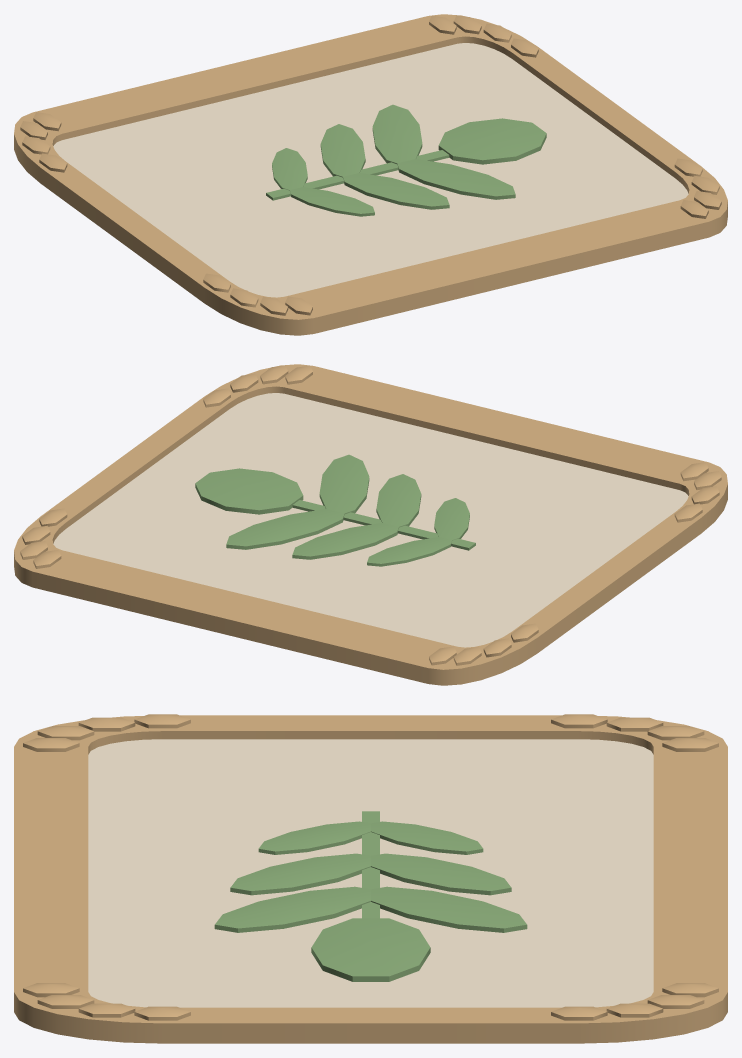
Rendered from doormat.glb.
3 views of the same model, one above another, from view 1: azimuth 30°, elevation 25°; view 2: azimuth 150°, elevation 25°; view 3: azimuth 270°, elevation 25° (orthographic). The views are drawn at different scales.
Visible parts, largest first — view 1: doormat; view 2: doormat; view 3: doormat.
Boxes of the visible parts, <box> form: doormat: <box>14,14,727,335</box>; doormat: <box>14,364,727,685</box>; doormat: <box>14,714,727,1043</box>.
Bounding box in the file's own units: 0.98 × 0.041 × 0.96.
